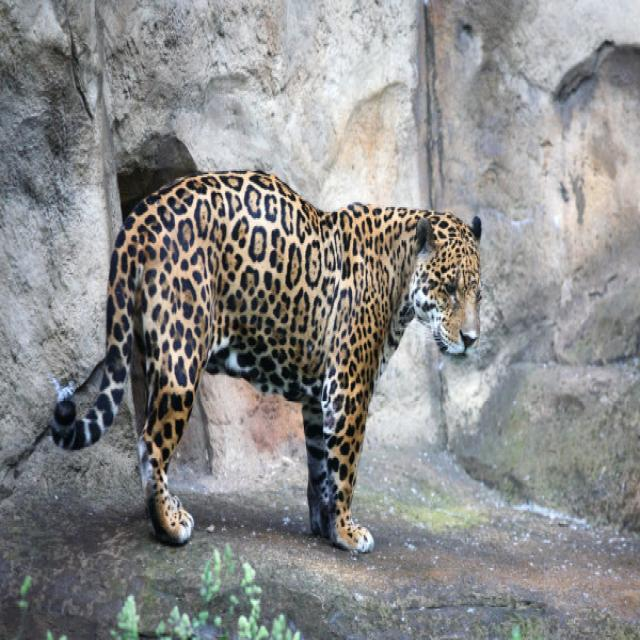Jaguar: (56, 154, 486, 552)
